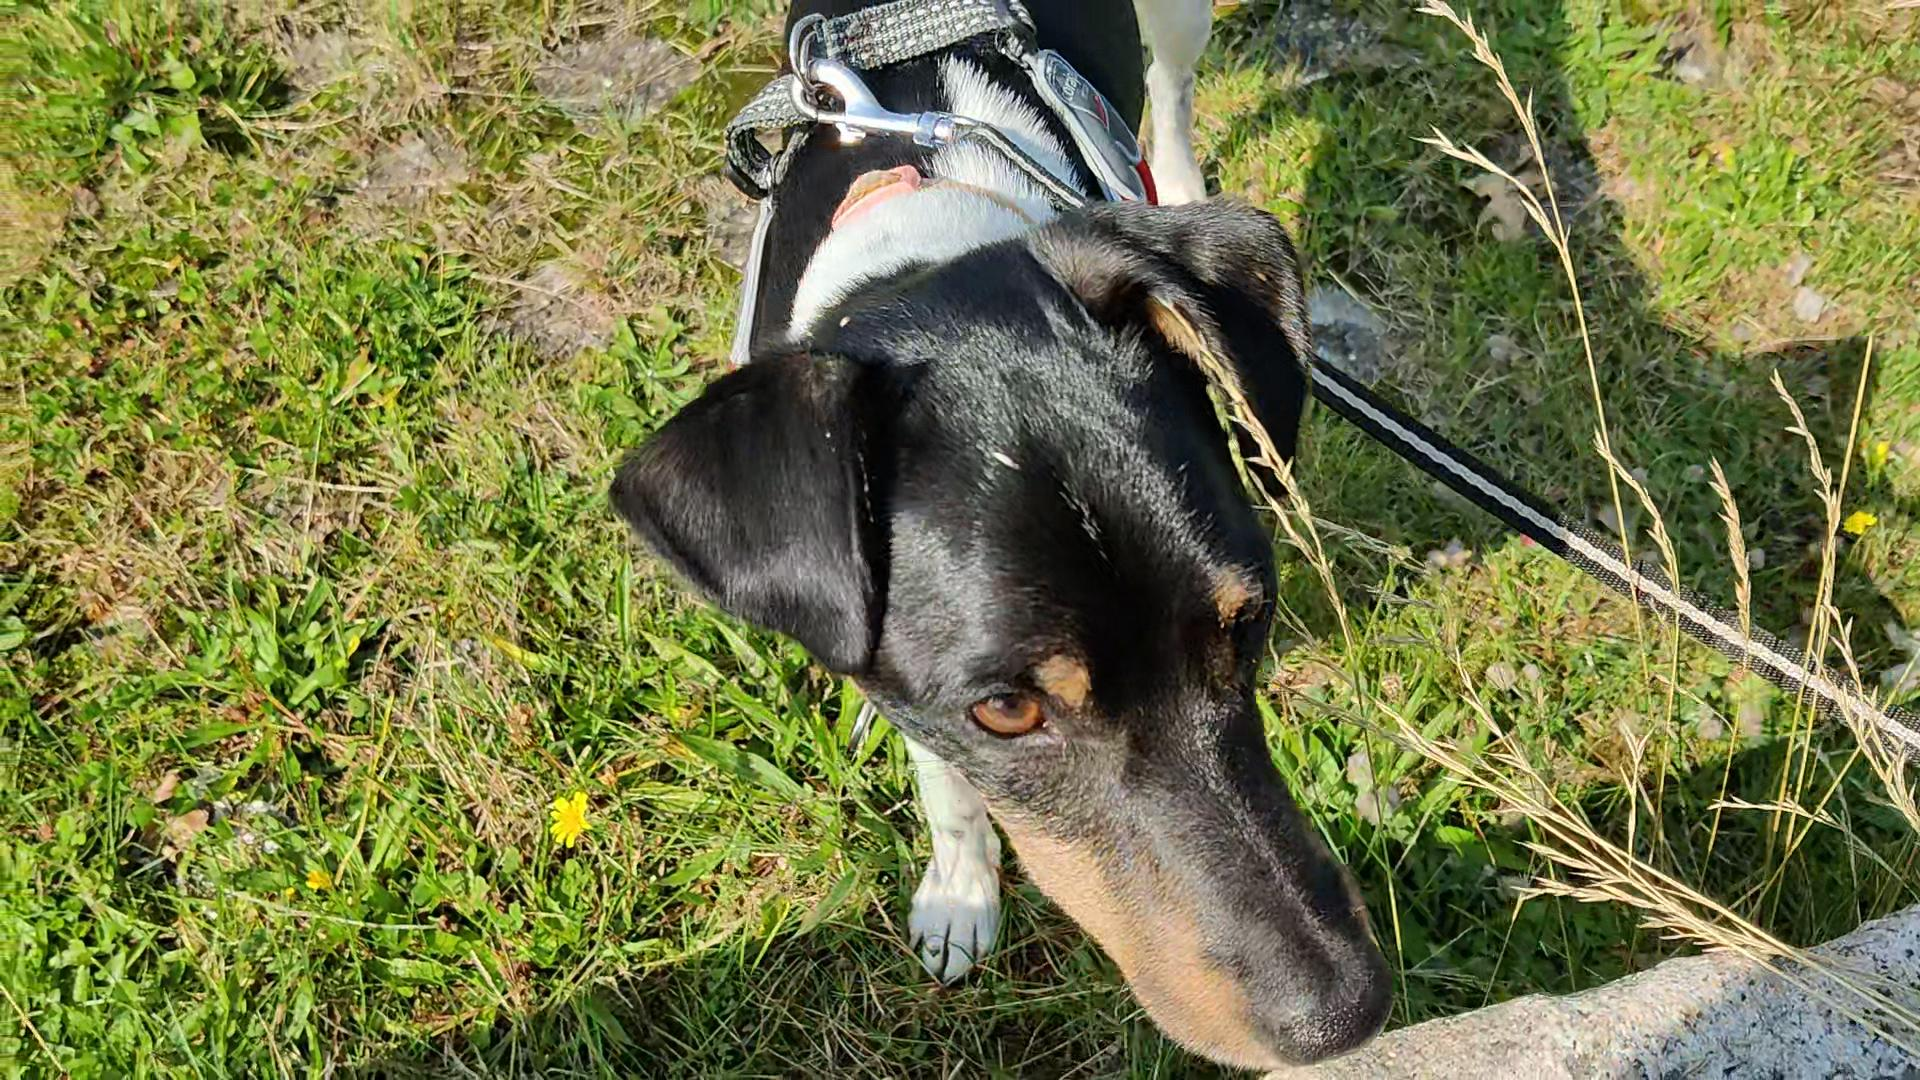Dog: (579, 0, 1443, 1073)
